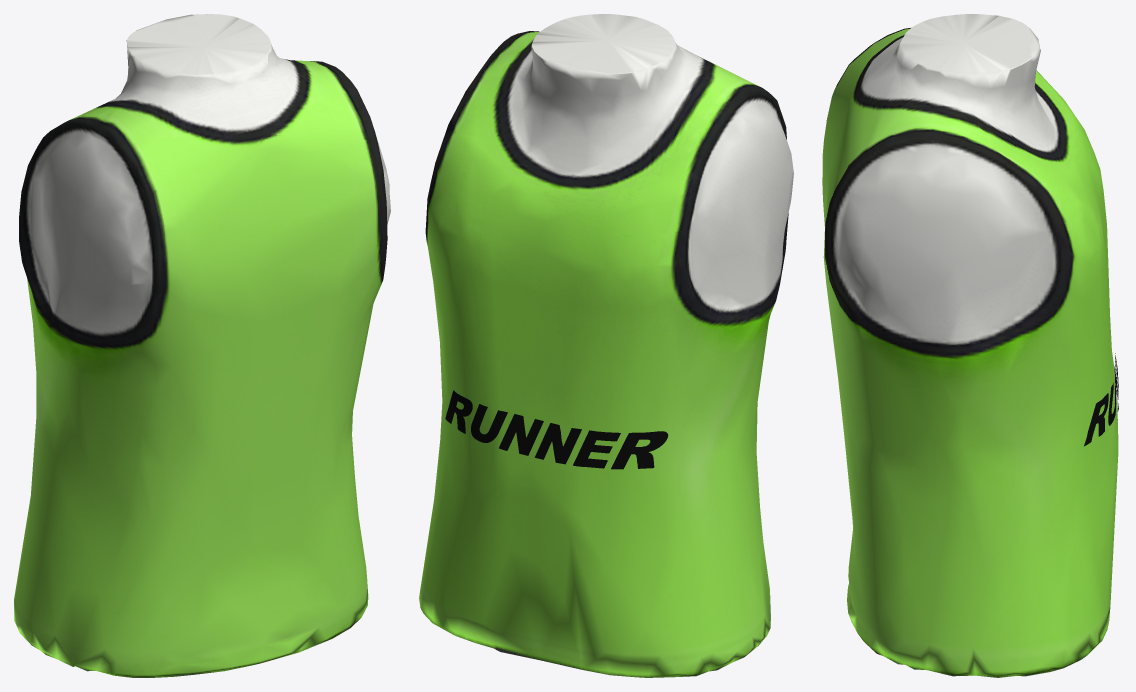
File: torso-rbx1718v3.glb
3 renders of one model, left to right at view 1: azimuth 30°, elevation 25°; view 2: azimuth 150°, elevation 25°; view 3: azimuth 270°, elevation 25°, orthographic. The views are drawn at different scales.
Parts seen in each view (by area): view 1: chest__whole; view 2: chest__whole, chest__print; view 3: chest__whole, chest__print.
Part boxes in pixels (<box>): chest__whole: <box>14,14,390,677</box>; chest__whole: <box>419,14,793,677</box>; chest__print: <box>445,390,668,469</box>; chest__whole: <box>822,14,1118,677</box>; chest__print: <box>1084,353,1118,446</box>.
Size of the model in its own units: 0.3628 by 0.6272 by 0.3024.
2 materials, 2 textured.
